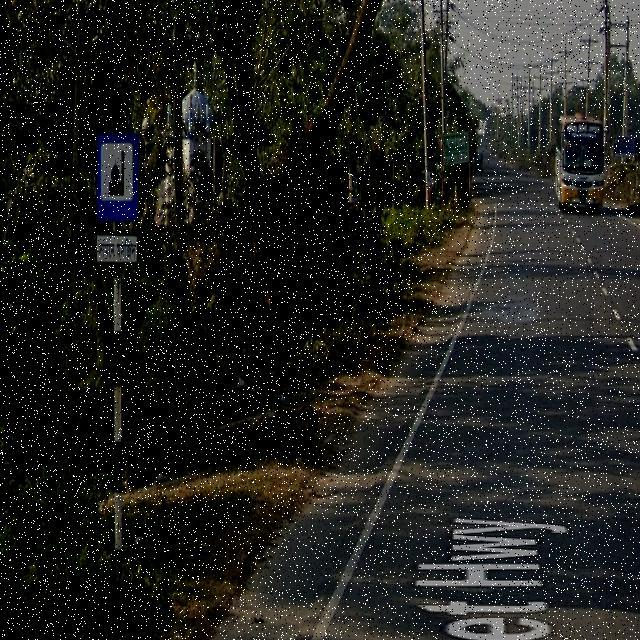Mosque in front: (92, 124, 151, 272)
